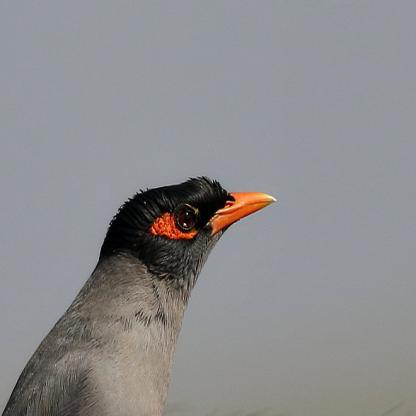Burung: (0, 175, 284, 415)
